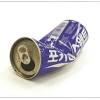can: (9, 15, 94, 85), (28, 50, 86, 83), (49, 17, 87, 29), (16, 28, 42, 39), (32, 20, 44, 29)
